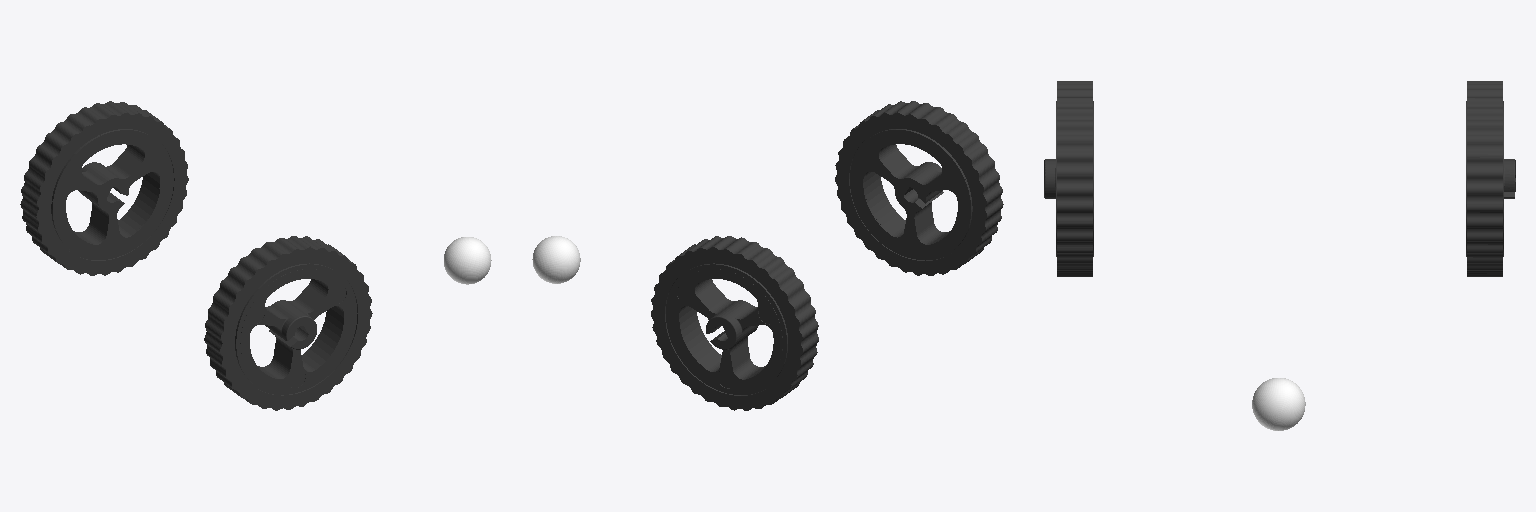
URDF robot description (rrc_2wheel_robot):
<?xml version="1.0" encoding="utf-8"?>
<!-- This URDF was automatically created by SolidWorks to URDF Exporter! Originally created by [author] ([email redacted]) 
     Commit Version: 1.6.0-1-g15f4949  Build Version: 1.6.7594.29634
     For more information, please see http://wiki.ros.org/sw_urdf_exporter -->
<robot
  name="rrc_2wheel_robot">
  <link name="base_footprint">
   </link>
  <link
    name="robot_chassis">
    <inertial>
      <origin
        xyz="0.0382 0 0.0125"
        rpy="1.5708 0 0" />
      <mass
        value="0.3" />
      <inertia
        ixx="0.000090506"
        ixy="0"
        ixz="0"
        iyy="0.00045"
        iyz="0"
        izz="0.000360506" />
    </inertial>
    <visual>
      <origin
        xyz="0 0 0"
        rpy="0 0 0" />
      <geometry>
        <mesh
          filename="package://rrc_2wheel_robot/meshes/robot_chassis.STL" />
      </geometry>
      <material
        name="">
        <color
          rgba="0.8 0.1 0.1 1" />
      </material>
    </visual>
    <collision>
      <origin
        xyz="0.0382 0 0.0125"
        rpy="0 0 0" />
      <geometry>
        <box
          size="0.12 0.06 0.0045" />
      </geometry>
    </collision>
  </link>
  <joint 
    name="base_joint" 
    type="fixed">
    <origin
      xyz="0 0 -0.005"
      rpy="0 0 0" />
    <parent 
      link="base_footprint"/>
    <child 
      link="robot_chassis"/>
  </joint>
  
  <link
    name="Left_wheel">
    <inertial>
      <origin
        xyz="1.5739E-05 9.087E-06 -0.0031408"
        rpy="0 0 0" />
      <mass
        value="0.006" />
      <inertia
        ixx="3.6121E-07"
        ixy="6.4607E-11"
        ixz="-6.1593E-11"
        iyy="3.6114E-07"
        iyz="-3.5561E-11"
        izz="6.9454E-07" />
    </inertial>
    <visual>
      <origin
        xyz="0 0 0"
        rpy="0 3.14 0" />
      <geometry>
        <mesh
          filename="package://rrc_2wheel_robot/meshes/Left_wheel.STL" />
      </geometry>
      <material
        name="">
        <color
          rgba="0.29804 0.29804 0.29804 1" />
      </material>
    </visual>
    <collision>
      <origin
        xyz="0 0 0"
        rpy="0 3.14 0" />
      <geometry>
        <mesh
          filename="package://rrc_2wheel_robot/meshes/Left_wheel_collision.STL" />
      </geometry>
    </collision>
  </link>
  <joint
    name="l_wheel_joint"
    type="continuous">
    <origin
      xyz="-0.00018078 0.032511 0.019693"
      rpy="1.5708 0 0" />
    <parent
      link="robot_chassis" />
    <child
      link="Left_wheel" />
    <axis
      xyz="0 0 1" />
    <limit
      effort="0"
      velocity="300" />
  </joint>
  
  <link
    name="Right_wheel">
    <inertial>
      <origin
        xyz="1.5739E-05 9.087E-06 0.0031408"
        rpy="0 0 0" />
      <mass
        value="0.006" />
      <inertia
        ixx="3.6121E-07"
        ixy="6.4607E-11"
        ixz="-6.1593E-11"
        iyy="3.6114E-07"
        iyz="-3.5561E-11"
        izz="6.9454E-07" />
    </inertial>
    <visual>
      <origin
        xyz="0 0 0"
        rpy="0 0 0" />
      <geometry>
        <mesh
          filename="package://rrc_2wheel_robot/meshes/Right_wheel.STL" />
      </geometry>
      <material
        name="">
        <color
          rgba="0.29804 0.29804 0.29804 1" />
      </material>
    </visual>
    <collision>
      <origin
        xyz="0 0 0"
        rpy="0 0 0" />
      <geometry>
        <mesh
          filename="package://rrc_2wheel_robot/meshes/Right_wheel_collision.STL" />
      </geometry>
    </collision>
  </link>
  <joint
    name="r_wheel_joint"
    type="continuous">
    <origin
      xyz="-0.00018078 -0.032511 0.019693"
      rpy="1.5708 0 0" />
    <parent
      link="robot_chassis" />
    <child
      link="Right_wheel" />
    <axis
      xyz="0 0 1" />
    <limit
      effort="0"
      velocity="300" />
  </joint>
  
  <link
    name="Castor_wheel">
    <inertial>
      <origin
        xyz="0 0 0"
        rpy="0 0 0" />
      <mass
        value="0.005" />
      <inertia
        ixx="0"
        ixy="0"
        ixz="0"
        iyy="0"
        iyz="0"
        izz="0" />
    </inertial>
    <visual>
      <origin
        xyz="0 0 0"
        rpy="0 0 0" />
      <geometry>
        <mesh
          filename="package://rrc_2wheel_robot/meshes/Castor_wheel.STL" />
      </geometry>
      <material
        name="">
        <color
          rgba="1 1 1 1" />
      </material>
    </visual>
    <collision>
      <origin
        xyz="0 0 0"
        rpy="0 0 0" />
      <geometry>
        <mesh
          filename="package://rrc_2wheel_robot/meshes/Castor_wheel_collision.STL" />
      </geometry>
    </collision>
  </link>
  <joint
    name="castor_joint"
    type="fixed">
    <origin
      xyz="0.060344 -0.00020036 0.0046825"
      rpy="-1.5895 0.02407 1.6021" />
    <parent
      link="robot_chassis" />
    <child
      link="Castor_wheel" />
    <axis
      xyz="0 0 0" />
  </joint>
  
  <link name="sensor_left">
   </link>
  <joint
    name="L_sensor"
    type="fixed">
    <origin
      xyz="0.054044 0.030189 0.024693"
      rpy="-1.5708 0 0" />
    <parent
      link="robot_chassis" />
    <child
      link="sensor_left" />
    <axis
      xyz="0 0 0" />
  </joint>
  
  <link name="sensor_front">
   </link>
  <joint
    name="F_sensor"
    type="fixed">
    <origin
      xyz="0.084719 6.3686E-05 0.024693"
      rpy="0 1.5708 0" />
    <parent
      link="robot_chassis" />
    <child
      link="sensor_front" />
    <axis
      xyz="0 0 0" />
  </joint>
  
  <link name="sensor_right">
   </link>
  <joint
    name="R_sensor"
    type="fixed">
    <origin
      xyz="0.054044 -0.030611 0.024693"
      rpy="-1.5708 0 3.1416" />
    <parent
      link="robot_chassis" />
    <child
      link="sensor_right" />
    <axis
      xyz="0 0 0" />
  </joint>
</robot>

--- What the picture shows (computed from the rendered views, not written in the file) ---
3 views of the same robot in one strip: view 1: azimuth 30°, elevation 25°; view 2: azimuth 150°, elevation 25°; view 3: azimuth 270°, elevation 25° (orthographic).
Model rrc_2wheel_robot with 8 links and 7 joints (2 continuous, 5 fixed), rooted at base_footprint, posed all joints at 0.
Visible links, largest first — view 1: Right_wheel, Left_wheel, Castor_wheel; view 2: Right_wheel, Left_wheel, Castor_wheel; view 3: Right_wheel, Left_wheel, Castor_wheel.
Link boxes in pixels (x1=…): Right_wheel: x1=204, y1=236, x2=372, y2=410; Left_wheel: x1=20, y1=101, x2=188, y2=275; Castor_wheel: x1=444, y1=237, x2=491, y2=284; Right_wheel: x1=835, y1=101, x2=1003, y2=275; Left_wheel: x1=651, y1=236, x2=818, y2=410; Castor_wheel: x1=532, y1=236, x2=580, y2=283; Right_wheel: x1=1044, y1=81, x2=1093, y2=276; Left_wheel: x1=1466, y1=81, x2=1515, y2=276; Castor_wheel: x1=1252, y1=378, x2=1305, y2=430.
Bounding box of the posed robot: 0.0822 × 0.0818 × 0.0367 m (x, y, z).
3 mesh visuals loaded from 4 distinct referenced files (3 binary STL); not drawn: 1 (reference not matched to a file when rendering).